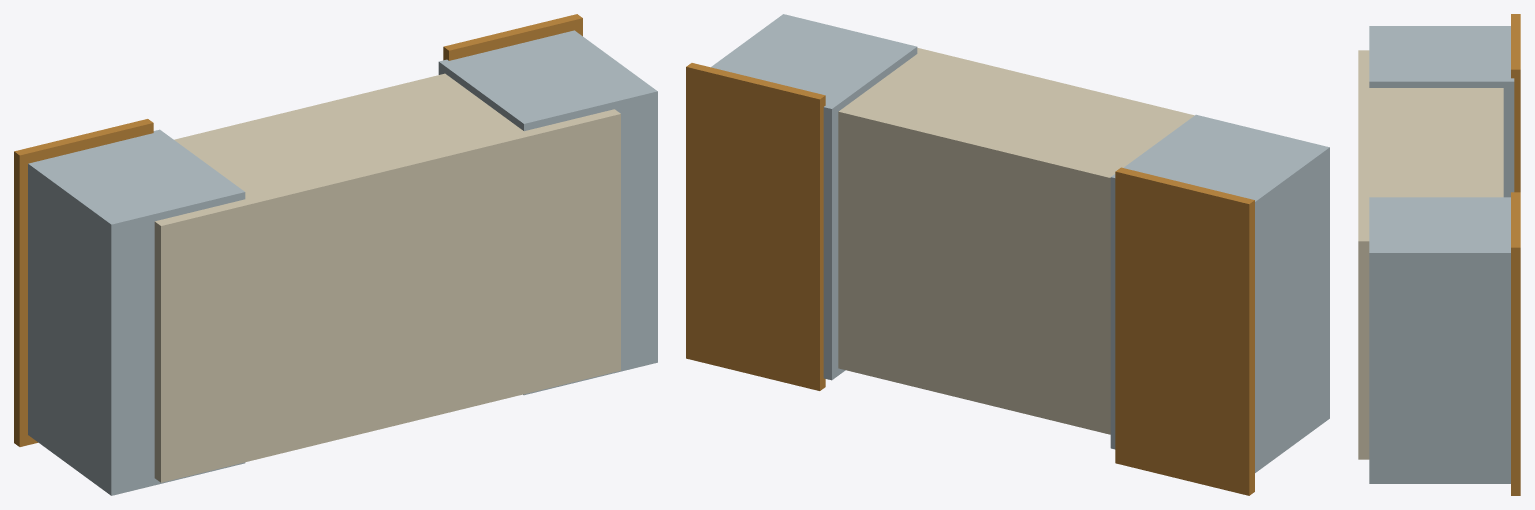
3 views of the same model, side by side, from view 1: azimuth 30°, elevation 25°; view 2: azimuth 150°, elevation 25°; view 3: azimuth 270°, elevation 25° (orthographic). The views are drawn at different scales.
Visible parts, largest first — view 1: C2; view 2: C2; view 3: C2.
Part boxes in pixels (x1=…): C2: x1=14, y1=14, x2=657, y2=495; C2: x1=686, y1=14, x2=1329, y2=495; C2: x1=1358, y1=14, x2=1520, y2=495.
Bounding box in the file's own units: 0.00202 × 0.001 × 0.000592.
